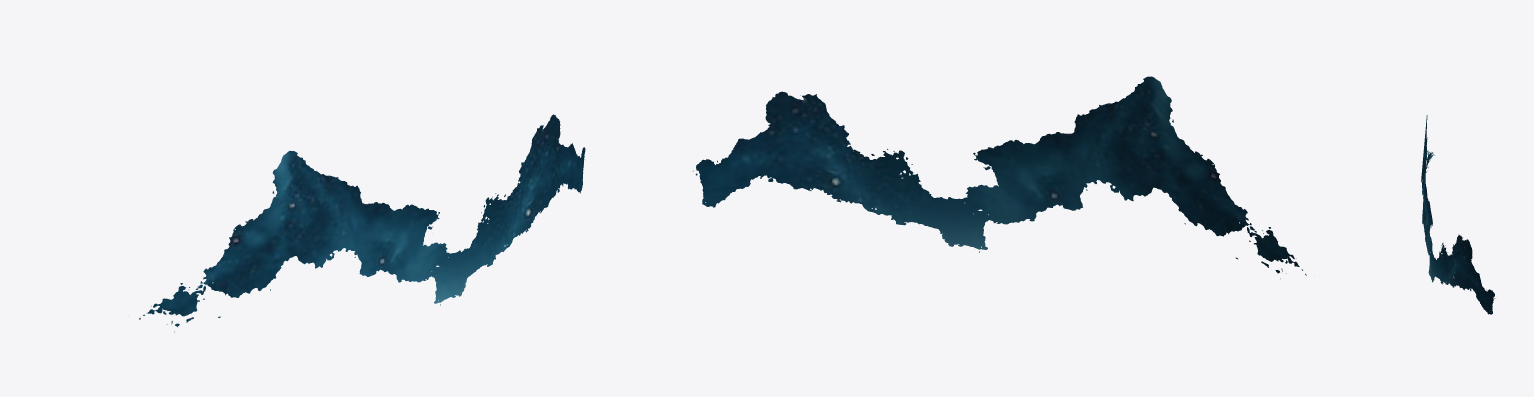
File: cloud4.fbx
The picture shows the model from 3 angles, left to right: view 1: azimuth 30°, elevation 25°; view 2: azimuth 150°, elevation 25°; view 3: azimuth 270°, elevation 25°; orthographic projection. The views are drawn at different scales.
Visible parts, largest first — view 1: polySurface12; view 2: polySurface12; view 3: polySurface12.
Boxes of the visible parts, bbox=[...] form: polySurface12: bbox=[139, 114, 585, 332]; polySurface12: bbox=[693, 76, 1306, 278]; polySurface12: bbox=[1421, 115, 1495, 314].
Size of the model in its own units: 127 by 62.98 by 29.63.
Materials: 1 (1 with a texture image).
